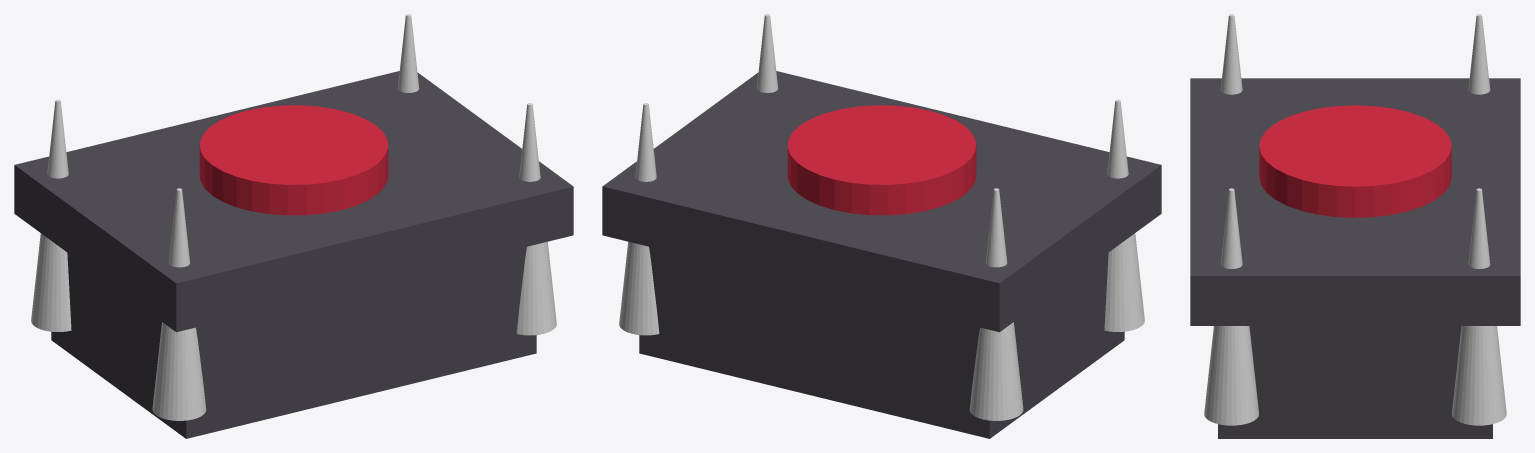
File: blood_altar.gltf
3 renders of one model, left to right at view 1: azimuth 30°, elevation 25°; view 2: azimuth 150°, elevation 25°; view 3: azimuth 270°, elevation 25°, orthographic.
Visible parts, largest first — view 1: AltarTopSlab, AltarPedestal, BloodBasin, Spike_-1.5_-0.9, Spike_-1.5_0.9, Spike_1.5_-0.9, Spike_1.5_0.9; view 2: AltarTopSlab, AltarPedestal, BloodBasin, Spike_-1.5_0.9, Spike_-1.5_-0.9, Spike_1.5_0.9, Spike_1.5_-0.9; view 3: AltarTopSlab, AltarPedestal, BloodBasin, Spike_1.5_0.9, Spike_1.5_-0.9, Spike_-1.5_0.9, Spike_-1.5_-0.9.
Part boxes in pixels (box(x1,y1,x2,y2)): AltarTopSlab: box(14, 71, 573, 332); AltarPedestal: box(51, 247, 536, 438); BloodBasin: box(199, 105, 388, 215); Spike_-1.5_-0.9: box(152, 188, 206, 420); Spike_-1.5_0.9: box(31, 99, 71, 331); Spike_1.5_-0.9: box(516, 103, 556, 335); Spike_1.5_0.9: box(397, 14, 419, 92); AltarTopSlab: box(602, 71, 1161, 332); AltarPedestal: box(639, 247, 1124, 438); BloodBasin: box(787, 105, 976, 215); Spike_-1.5_0.9: box(969, 188, 1023, 420); Spike_-1.5_-0.9: box(1104, 99, 1144, 331); Spike_1.5_0.9: box(619, 103, 659, 335); Spike_1.5_-0.9: box(756, 14, 778, 92); AltarTopSlab: box(1190, 78, 1520, 325); AltarPedestal: box(1218, 326, 1492, 438); BloodBasin: box(1259, 105, 1451, 217); Spike_1.5_0.9: box(1452, 188, 1506, 425); Spike_1.5_-0.9: box(1204, 188, 1258, 425); Spike_-1.5_0.9: box(1468, 14, 1490, 94); Spike_-1.5_-0.9: box(1220, 14, 1242, 94).
Bounding box in the file's own units: 3.4 × 2 × 2.4.
